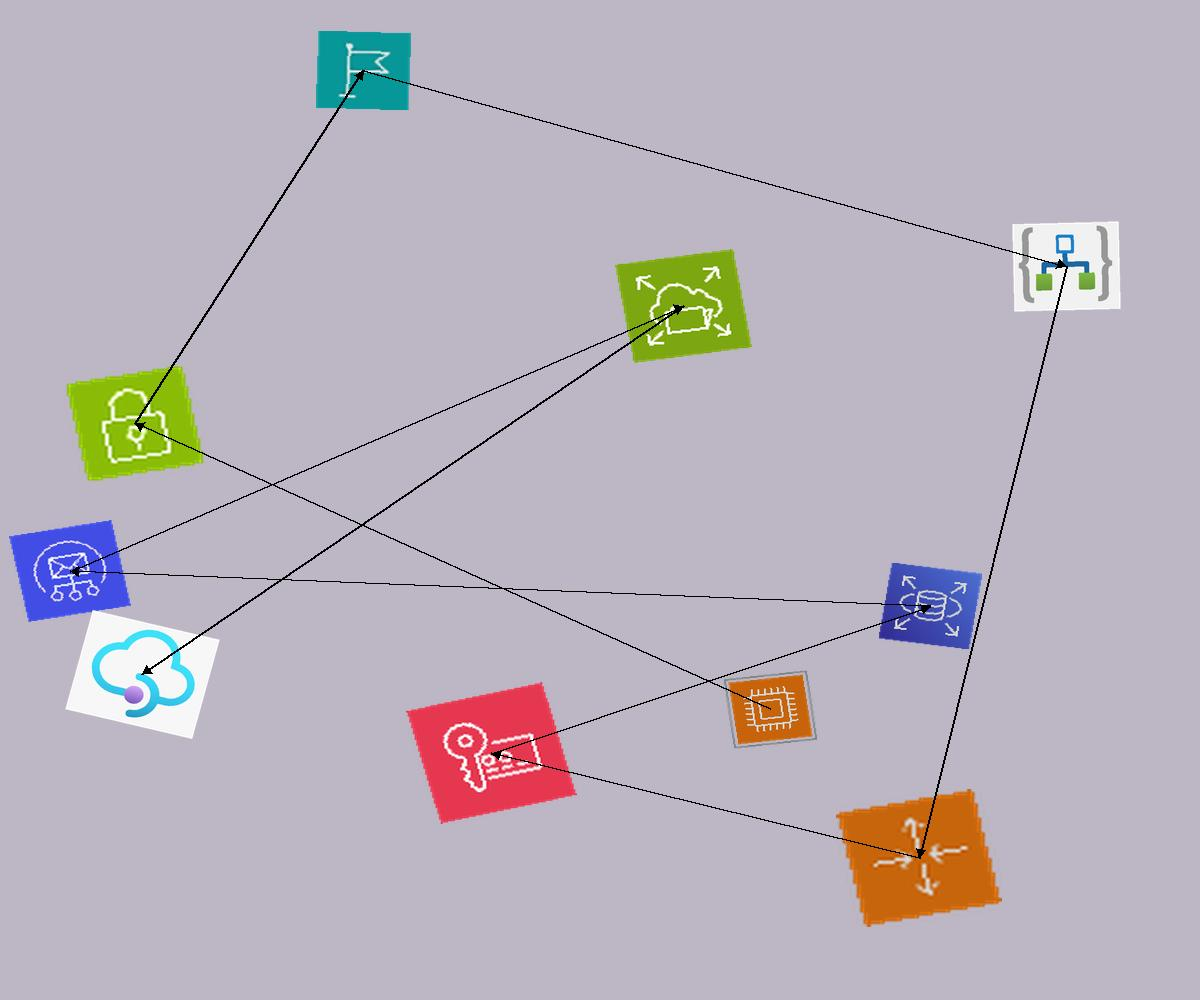AWS-Category_Compute: (723, 670, 818, 749)
AWS-EFS: (615, 249, 752, 363)
AWS-Key-Management-Service: (406, 682, 577, 824)
AWS-Public-subnet: (64, 364, 206, 483)
AWS-RDS: (878, 562, 983, 650)
AWS-Region: (315, 30, 412, 111)
AWS-Scaling-group: (836, 789, 1002, 927)
AWS-Simple-Email-Service: (9, 520, 131, 622)
Azure_api_gateway: (65, 610, 220, 739)
Azure_integration-204-Logic-Apps: (1012, 221, 1121, 312)
